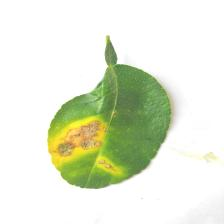canker: (49, 102, 132, 190)
